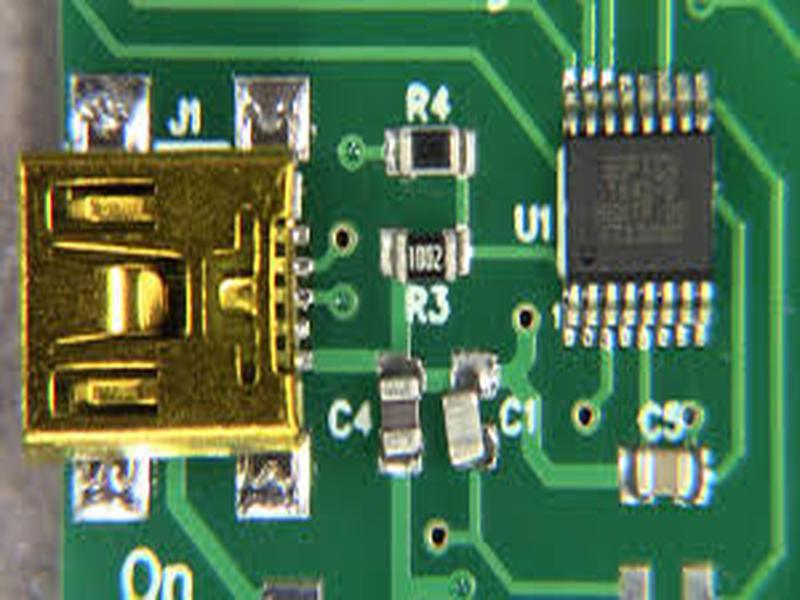SMD capacitor: (626, 443, 711, 513), (447, 382, 494, 480)
SMD resistor: (387, 226, 466, 292), (391, 126, 477, 180)
